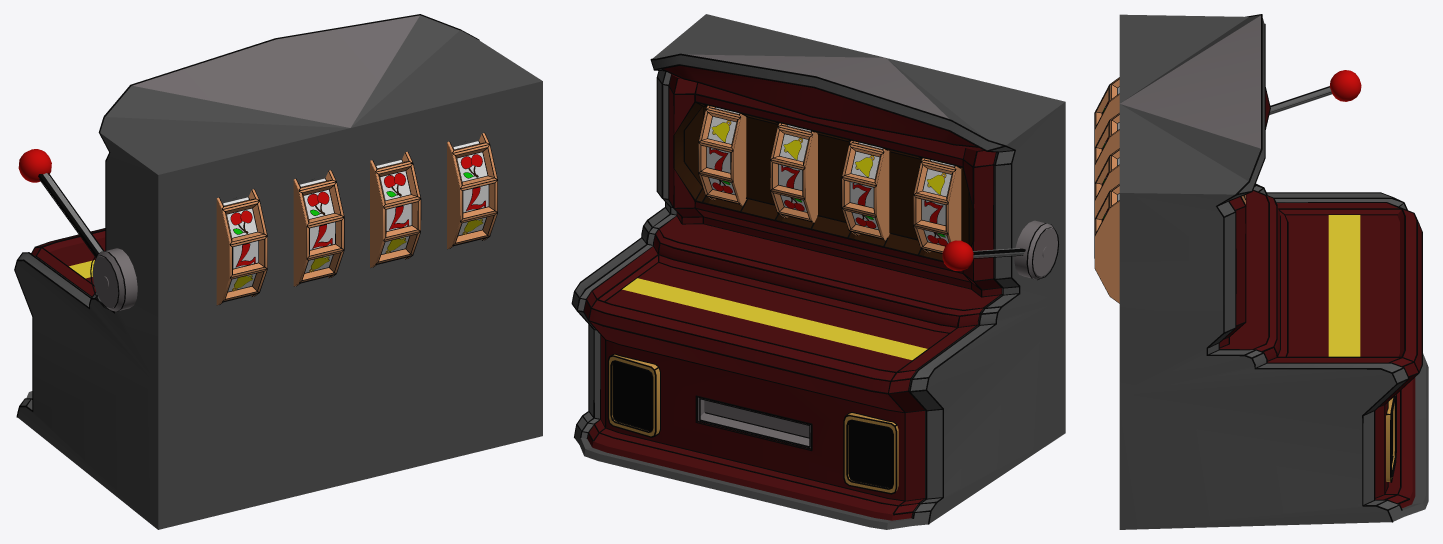
File: Fighting (1) 1.fbx
The picture shows the model from 3 angles, left to right: view 1: azimuth 30°, elevation 25°; view 2: azimuth 150°, elevation 25°; view 3: azimuth 270°, elevation 25°; orthographic projection. The views are drawn at different scales.
Parts seen in each view (by area): view 1: Cube.003, Wheel1, Wheel2, Wheel3, Wheel4, Cylinder.002; view 2: Cube.003, Plane.009, Wheel4, Wheel2, Wheel3, Wheel1, Cylinder.002; view 3: Cube.003, Plane.009, Wheel4, Cylinder.002, Wheel3, Wheel1, Wheel2.
Part boxes in pixels (x1,y1,x2,y2): Cube.003: (14,14,542,529); Wheel1: (216,189,267,305); Wheel2: (293,170,344,286); Wheel3: (370,151,421,267); Wheel4: (447,132,497,249); Cylinder.002: (18,149,137,311); Cube.003: (571,14,1065,529); Plane.009: (622,278,927,359); Wheel4: (698,105,746,206); Wheel2: (841,141,889,241); Wheel3: (770,123,817,222); Wheel1: (913,158,961,253); Cylinder.002: (942,220,1058,280); Cube.003: (1119,14,1428,529); Plane.009: (1328,215,1360,356); Wheel4: (1094,184,1119,303); Cylinder.002: (1269,70,1361,114); Wheel3: (1094,148,1246,218); Wheel1: (1094,77,1119,147); Wheel2: (1094,113,1119,183).
Bounding box in the file's own units: 1573 × 1455 × 1189.
